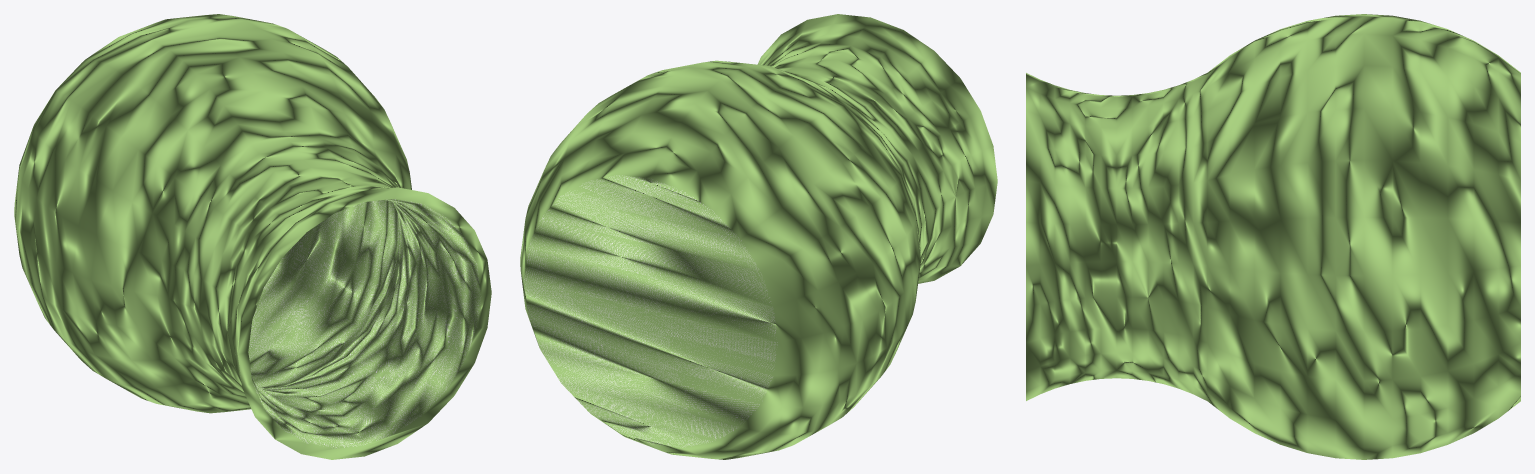
File: model_align.obj
3 views of the same model, side by side, from view 1: azimuth 30°, elevation 25°; view 2: azimuth 150°, elevation 25°; view 3: azimuth 270°, elevation 25° (orthographic). The views are drawn at different scales.
Bounding box in the file's own units: 0.1184 × 0.1184 × 0.1309.
